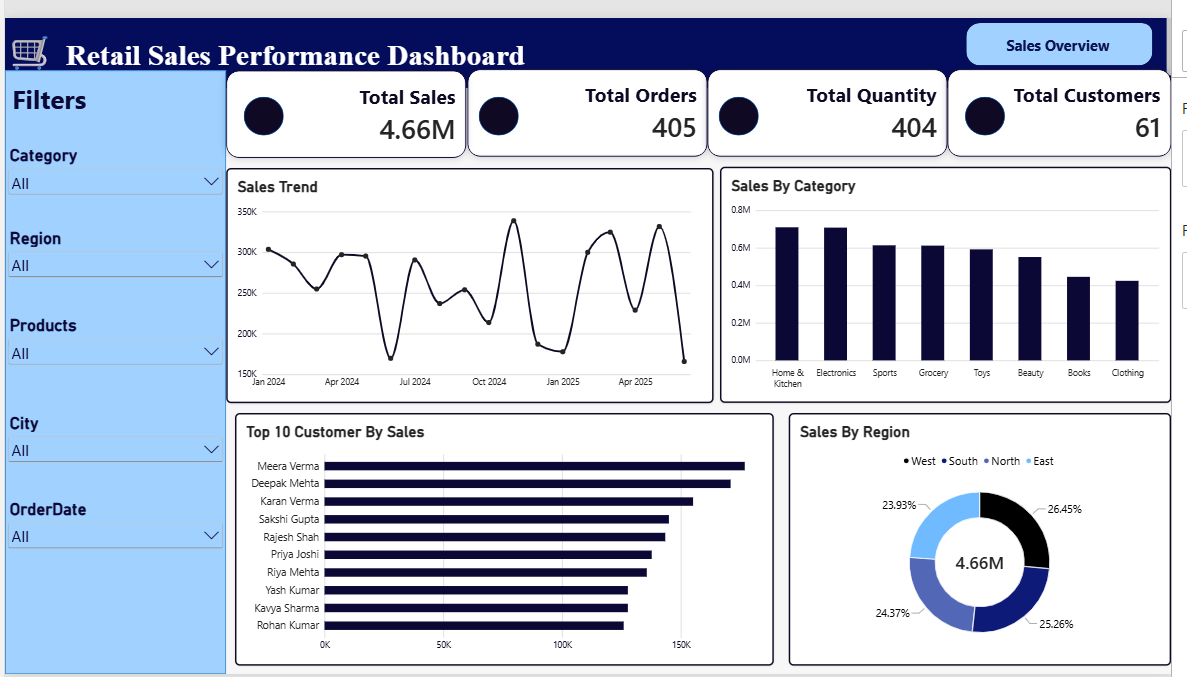

Layout of this report page (visuals, bound fields, positions):
{"tool":"powerbi","page":{"name":"Page 1","canvas":[1920,1080],"ordinal":0},"visuals":[{"type":"textbox","box":[0,0,1920.4,115.3],"z":0},{"type":"shape","box":[0,86,364,994],"z":1000},{"type":"textbox","box":[0,102,364,84],"z":2000},{"type":"slicer","fields":{"Values":["Orders.Product Name"]},"box":[0,490,364,100],"z":3000},{"type":"slicer","fields":{"Values":["Orders.Region"]},"box":[0,346,364,100],"z":4000},{"type":"slicer","fields":{"Values":["Orders.Category"]},"box":[0,210,364,100],"z":5000},{"type":"slicer","fields":{"Values":["Customers.City"]},"box":[0,650,364,100],"z":6000},{"type":"slicer","fields":{"Values":["Orders.OrderDate"]},"box":[0,792,364,100],"z":7000},{"type":"shape","box":[378.7,113.2,92.6,88.5],"z":8000},{"type":"textbox","box":[401.4,113.2,70,96.7],"z":9000},{"type":"cardVisual","fields":{"Data":["Count(Orders.OrderID)"]},"box":[761.6,84.4,395.2,144.1],"z":10000},{"type":"cardVisual","fields":{"Data":["CountNonNull(Orders.Quantity)"]},"box":[1156.8,84.4,395.2,144.1],"z":11000},{"type":"cardVisual","fields":{"Data":["Count(Orders.CustomerID)"]},"box":[1552,84.4,368.4,144.1],"z":12000},{"type":"cardVisual","fields":{"Data":["Sum(Orders.Revenue)"]},"box":[364.3,86.4,395.2,144.1],"z":13000},{"type":"lineChart","title":"Sales Trend","fields":{"Category":["Orders.OrderDate.Variation.Date Hierarchy.Year","Orders.OrderDate.Variation.Date Hierarchy.Quarter","Orders.OrderDate.Variation.Date Hierarchy.Month"],"Y":["Sum(Orders.Revenue)"]},"box":[364.3,247,802.7,387],"z":14000},{"type":"columnChart","title":"Sales By Category","fields":{"Category":["Orders.Category"],"Y":["Sum(Orders.Revenue)"]},"box":[1177.4,244.9,743.1,389],"z":15000},{"type":"donutChart","title":"Sales By Region","fields":{"Category":["Orders.Region"],"Y":["Sum(Orders.Revenue)"]},"box":[1290.6,650.4,629.8,415.8],"z":17000},{"type":"shape","box":[393.1,129.7,65.9,63.8],"z":19000},{"type":"shape","box":[1175.3,129.7,65.9,63.8],"z":20000},{"type":"shape","box":[1580.8,129.7,65.9,63.8],"z":21000},{"type":"shape","box":[780.1,129.7,65.9,63.8],"z":22000},{"type":"barChart","title":"Top 10 Customer By Sales","fields":{"Category":["Orders.Customer Name"],"Y":["Sum(Orders.Revenue)"]},"box":[378.7,650.4,887.1,415.8],"z":22001},{"type":"actionButton","box":[1582.9,8,306.7,70],"z":22002}]}

Visuals, with their boxes in screenshot pixels (x1, y1, x2, y2), scaled from the page's 1920x1080 canvas onto the 1187x677 screenshot:
textbox: (left=0, top=0, right=1186, bottom=72)
shape: (left=0, top=54, right=225, bottom=676)
textbox: (left=0, top=64, right=225, bottom=117)
slicer - Orders.Product Name: (left=0, top=307, right=225, bottom=370)
slicer - Orders.Region: (left=0, top=217, right=225, bottom=280)
slicer - Orders.Category: (left=0, top=132, right=225, bottom=194)
slicer - Customers.City: (left=0, top=407, right=225, bottom=470)
slicer - Orders.OrderDate: (left=0, top=496, right=225, bottom=559)
shape: (left=234, top=71, right=291, bottom=126)
textbox: (left=248, top=71, right=291, bottom=132)
cardVisual - Count(Orders.OrderID): (left=471, top=53, right=715, bottom=143)
cardVisual - CountNonNull(Orders.Quantity): (left=715, top=53, right=959, bottom=143)
cardVisual - Count(Orders.CustomerID): (left=959, top=53, right=1186, bottom=143)
cardVisual - Sum(Orders.Revenue): (left=225, top=54, right=470, bottom=144)
"Sales Trend" lineChart: (left=225, top=155, right=721, bottom=397)
"Sales By Category" columnChart: (left=728, top=154, right=1186, bottom=397)
"Sales By Region" donutChart: (left=798, top=408, right=1186, bottom=668)
shape: (left=243, top=81, right=284, bottom=121)
shape: (left=727, top=81, right=767, bottom=121)
shape: (left=977, top=81, right=1018, bottom=121)
shape: (left=482, top=81, right=523, bottom=121)
"Top 10 Customer By Sales" barChart: (left=234, top=408, right=783, bottom=668)
actionButton: (left=979, top=5, right=1168, bottom=49)
